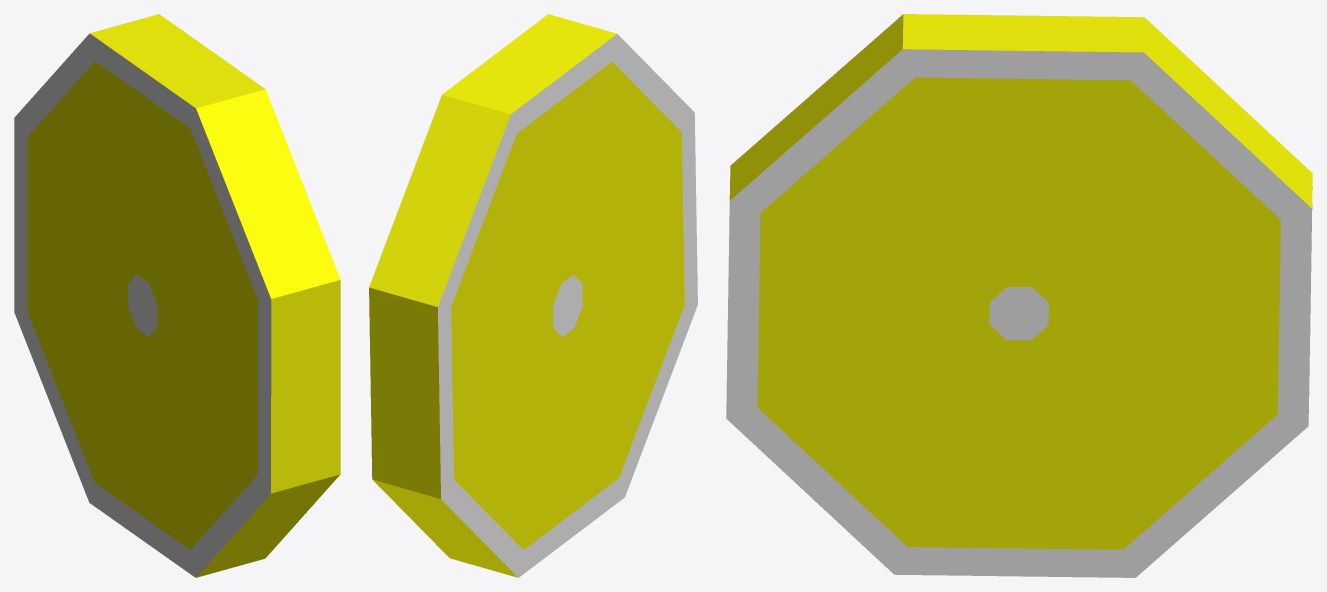
File: lemon03.obj
3 views of the same model, side by side, from view 1: azimuth 30°, elevation 25°; view 2: azimuth 150°, elevation 25°; view 3: azimuth 270°, elevation 25° (orthographic). The views are drawn at different scales.
Visible parts, largest first — view 1: Cylinder; view 2: Cylinder; view 3: Cylinder.
Part boxes in pixels (x1,y1,x2,y2): Cylinder: [14, 14, 340, 577]; Cylinder: [369, 14, 697, 577]; Cylinder: [726, 14, 1312, 577].
Size of the model in its own units: 0.00868 by 0.0533 by 0.0531.
Materials: 1 (1 with a texture image).
